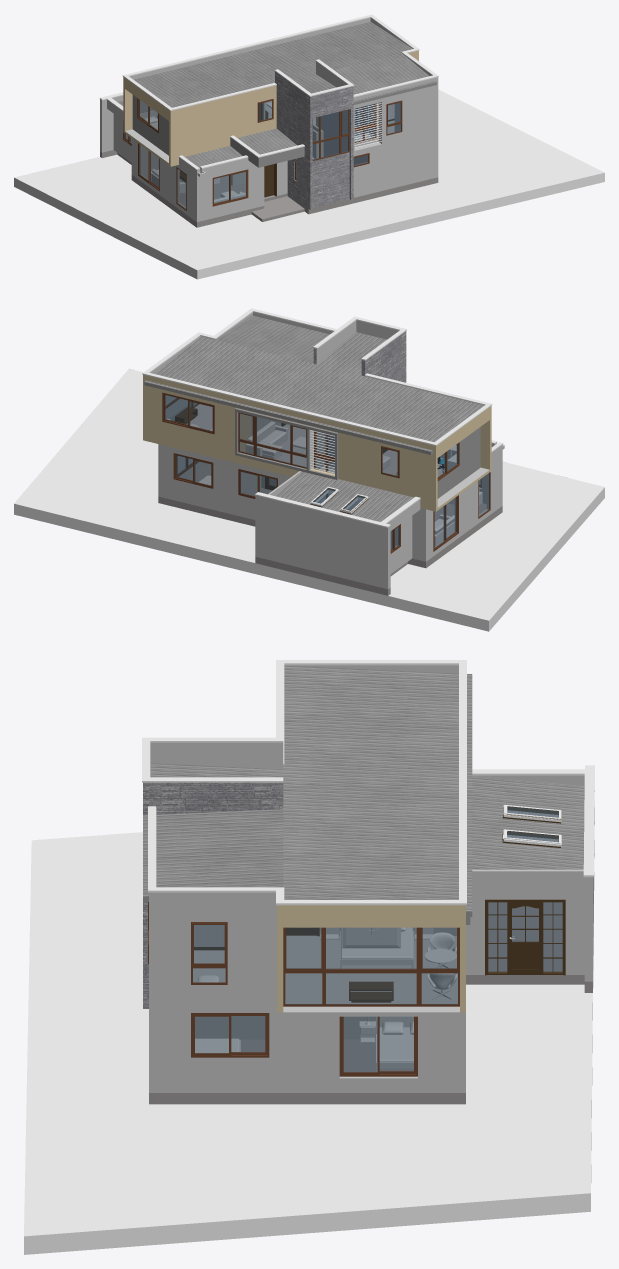
The model's file is casa_2.glb.
The picture shows the model from 3 angles, top to bottom: view 1: azimuth 30°, elevation 25°; view 2: azimuth 150°, elevation 25°; view 3: azimuth 270°, elevation 25°; orthographic projection. The views are drawn at different scales.
Visible parts, largest first — view 1: Material38, Material6, Material43, Material40, Material10, Material37, Material5, Material4, Material13, Material15, Material11, Material7 (+1 smaller); view 2: Material38, Material43, Material6, Material10, Material5, Material37, Material4, Material11, Material15, Material13, Material40, Material19.009 (+2 smaller); view 3: Material38, Material43, Material6, Material5, Material4, Material37, Material13, Material15, Material3, Material10, Material40, Material14 (+3 smaller).
Part boxes in pixels (x1,y1,x2,y2): Material38: [14, 89, 604, 270]; Material6: [100, 18, 438, 221]; Material43: [118, 22, 436, 167]; Material40: [275, 71, 353, 209]; Material10: [123, 50, 418, 166]; Material37: [14, 172, 604, 279]; Material5: [125, 100, 400, 208]; Material4: [99, 14, 438, 169]; Material13: [100, 150, 438, 227]; Material15: [123, 98, 402, 210]; Material11: [132, 82, 436, 167]; Material7: [267, 102, 381, 147]; Material38: [14, 369, 604, 620]; Material43: [145, 315, 484, 521]; Material6: [150, 312, 504, 589]; Material10: [143, 374, 491, 511]; Material5: [165, 395, 489, 549]; Material37: [14, 487, 604, 631]; Material4: [142, 308, 503, 527]; Material11: [144, 382, 480, 498]; Material15: [162, 392, 490, 553]; Material13: [158, 464, 502, 595]; Material40: [313, 331, 406, 382]; Material19.009: [245, 421, 287, 455]; Material38: [24, 799, 594, 1236]; Material43: [143, 665, 584, 911]; Material6: [149, 665, 593, 1092]; Material5: [193, 806, 562, 1072]; Material4: [142, 660, 594, 905]; Material37: [24, 807, 594, 1254]; Material13: [149, 893, 593, 1104]; Material15: [148, 902, 459, 1076]; Material3: [194, 806, 565, 1002]; Material10: [277, 905, 465, 1012]; Material40: [143, 782, 283, 1008]; Material14: [239, 927, 456, 1071].
Size of the model in its own units: 25.31 by 6.97 by 13.97.
32 materials, 2 textured.
